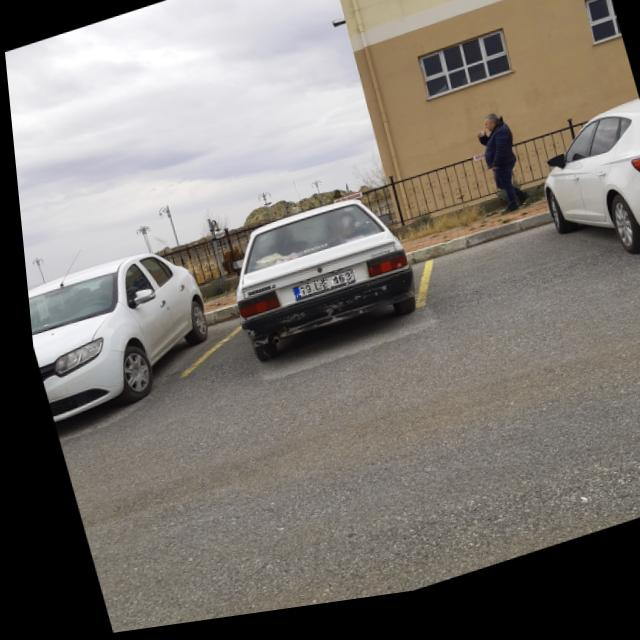license_plate: (284, 277, 351, 309)
